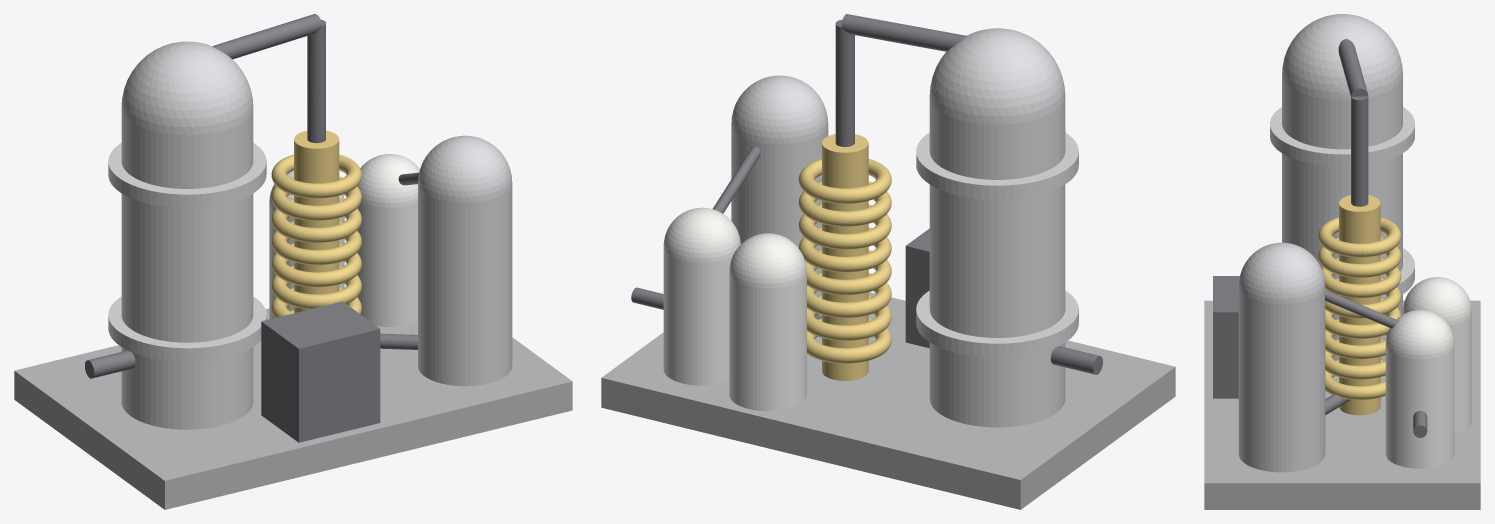
The model's file is rover08_sabatier.glb.
3 renders of one model, left to right at view 1: azimuth 30°, elevation 25°; view 2: azimuth 150°, elevation 25°; view 3: azimuth 270°, elevation 25°, orthographic. The views are drawn at different scales.
Parts seen in each view (by area): view 1: reactor, skid, separator, pipework_controls, heat_exchanger, product_bottles; view 2: reactor, skid, product_bottles, heat_exchanger, separator, pipework_controls; view 3: reactor, skid, separator, product_bottles, heat_exchanger, pipework_controls.
Part boxes in pixels (x1,y1,x2,y2): reactor: (108,41,266,429); skid: (14,308,572,509); separator: (418,135,512,386); pipework_controls: (85,14,418,442); heat_exchanger: (271,130,361,317); product_bottles: (269,154,419,326); reactor: (916,28,1078,427); skid: (601,292,1175,509); product_bottles: (663,207,806,411); heat_exchanger: (798,134,891,380); separator: (731,75,828,316); pipework_controls: (631,14,1102,374); reactor: (1270,14,1414,360); skid: (1204,300,1480,509); separator: (1238,242,1325,472); product_bottles: (1385,277,1471,468); heat_exchanger: (1318,195,1401,415); pipework_controls: (1213,39,1427,437).
Size of the model in its own units: 2.5 by 2.24 by 1.6.
